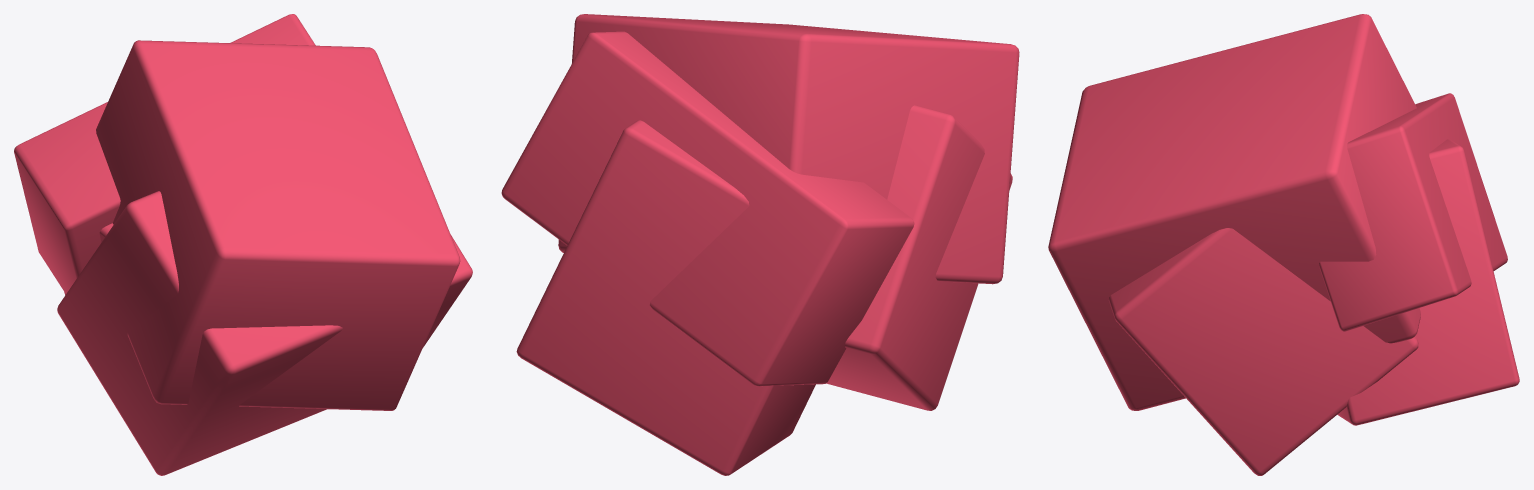
Rendered from RUBY_CUBE.dae.
The picture shows the model from 3 angles, left to right: view 1: azimuth 30°, elevation 25°; view 2: azimuth 150°, elevation 25°; view 3: azimuth 270°, elevation 25°; orthographic projection. The views are drawn at different scales.
Parts seen in each view (by area): view 1: MULTICUBE.1; view 2: MULTICUBE.1; view 3: MULTICUBE.1.
Part boxes in pixels (x1,y1,x2,y2): MULTICUBE.1: [14, 14, 472, 475]; MULTICUBE.1: [501, 14, 1019, 475]; MULTICUBE.1: [1048, 14, 1519, 475].
Bounding box in the file's own units: 49.9 × 57.31 × 63.97.
